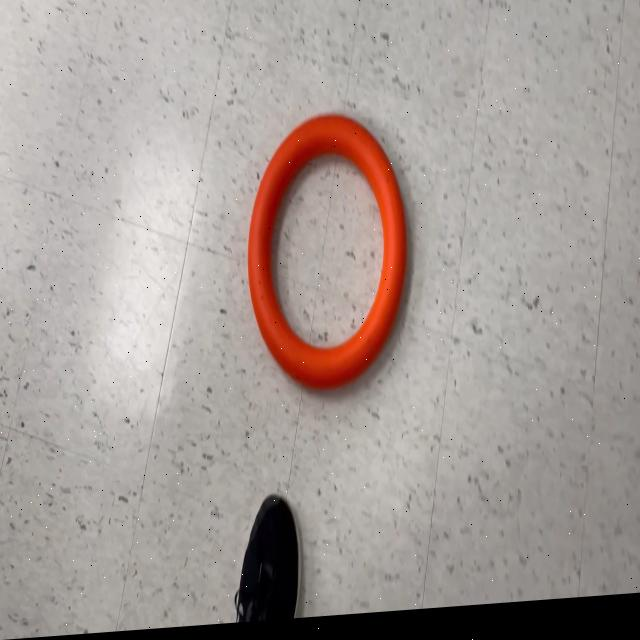note: (246, 116, 409, 400)
